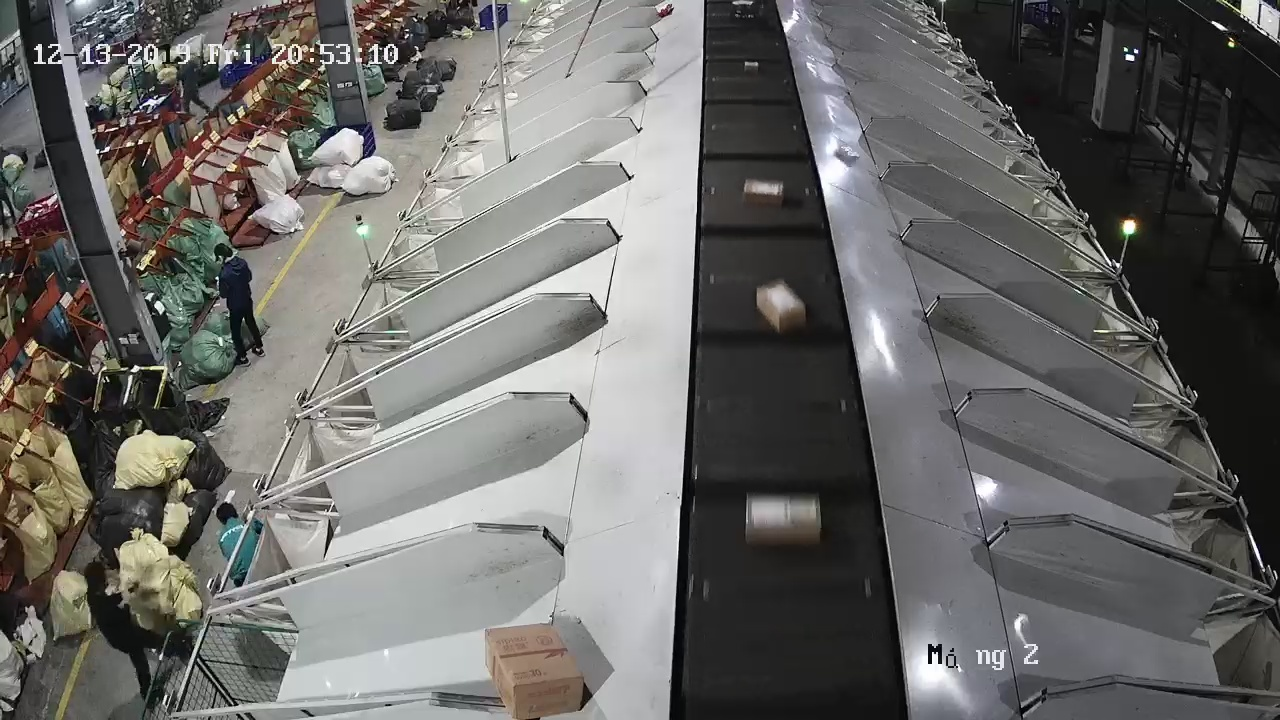parcel: (835, 142, 861, 163)
